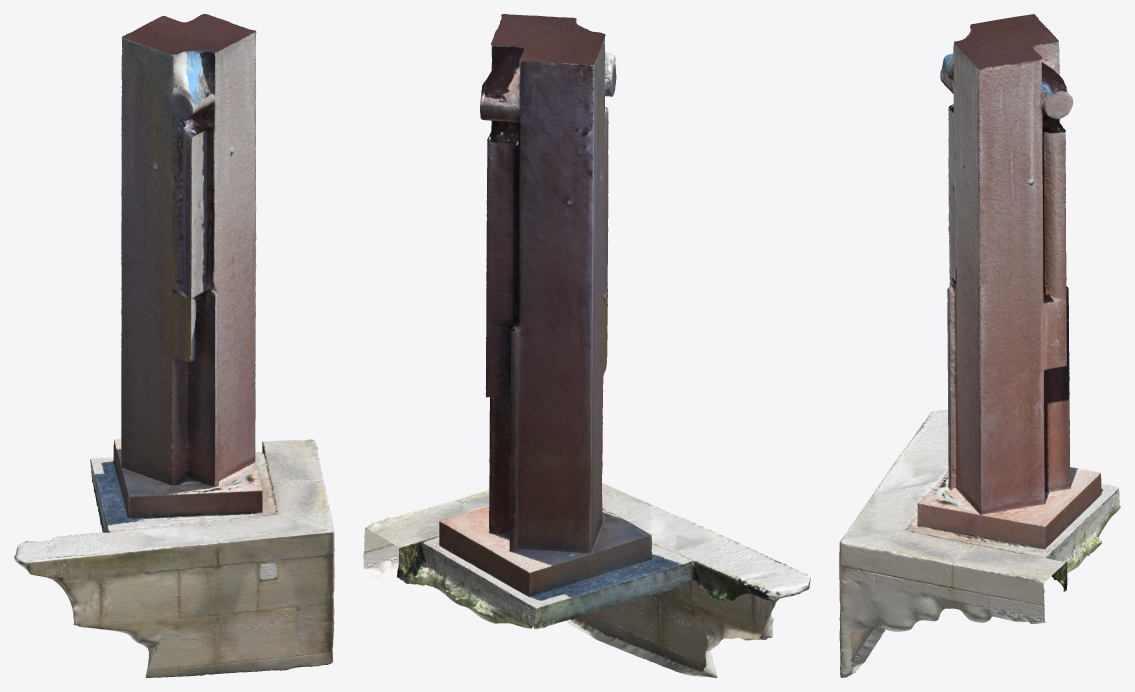
The picture shows the model from 3 angles, left to right: view 1: azimuth 30°, elevation 25°; view 2: azimuth 150°, elevation 25°; view 3: azimuth 270°, elevation 25°; orthographic projection. The views are drawn at different scales.
Parts seen in each view (by area): view 1: 2k.50k; view 2: 2k.50k; view 3: 2k.50k.
Boxes of the visible parts, left/top/right/bottom form: 2k.50k: left=14, top=14, right=334, bottom=677; 2k.50k: left=363, top=14, right=810, bottom=677; 2k.50k: left=839, top=14, right=1120, bottom=677.
Size of the model in its own units: 3.43 by 5.57 by 2.34.
1 material, 1 textured.
